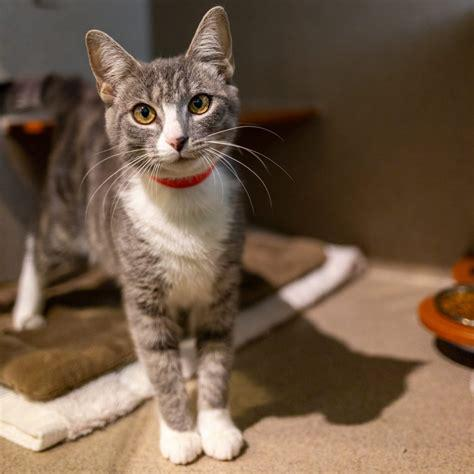cat: (12, 6, 244, 462)
